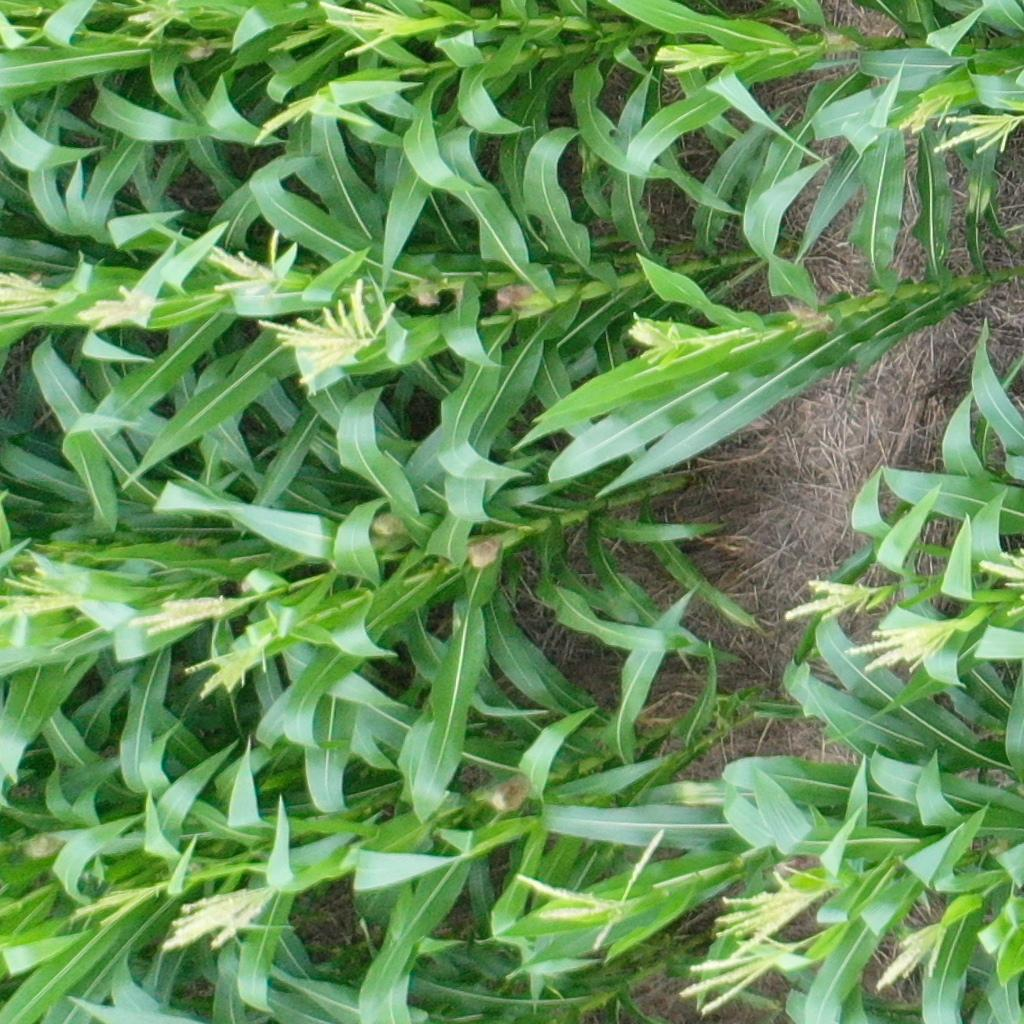Tassel: (517, 827, 668, 954), (258, 271, 404, 383), (708, 869, 833, 956), (164, 877, 291, 960), (679, 929, 793, 1012), (173, 633, 280, 700), (123, 587, 248, 641), (771, 568, 886, 622), (199, 227, 286, 298), (623, 308, 722, 369), (845, 627, 951, 683), (874, 913, 944, 992), (1, 566, 98, 623), (1, 264, 78, 331), (78, 284, 164, 338), (66, 875, 158, 925), (330, 1, 422, 51), (934, 112, 1024, 156), (976, 545, 1024, 615), (128, 1, 190, 52), (250, 106, 330, 143), (891, 91, 958, 133), (653, 39, 719, 80), (268, 20, 325, 55)
